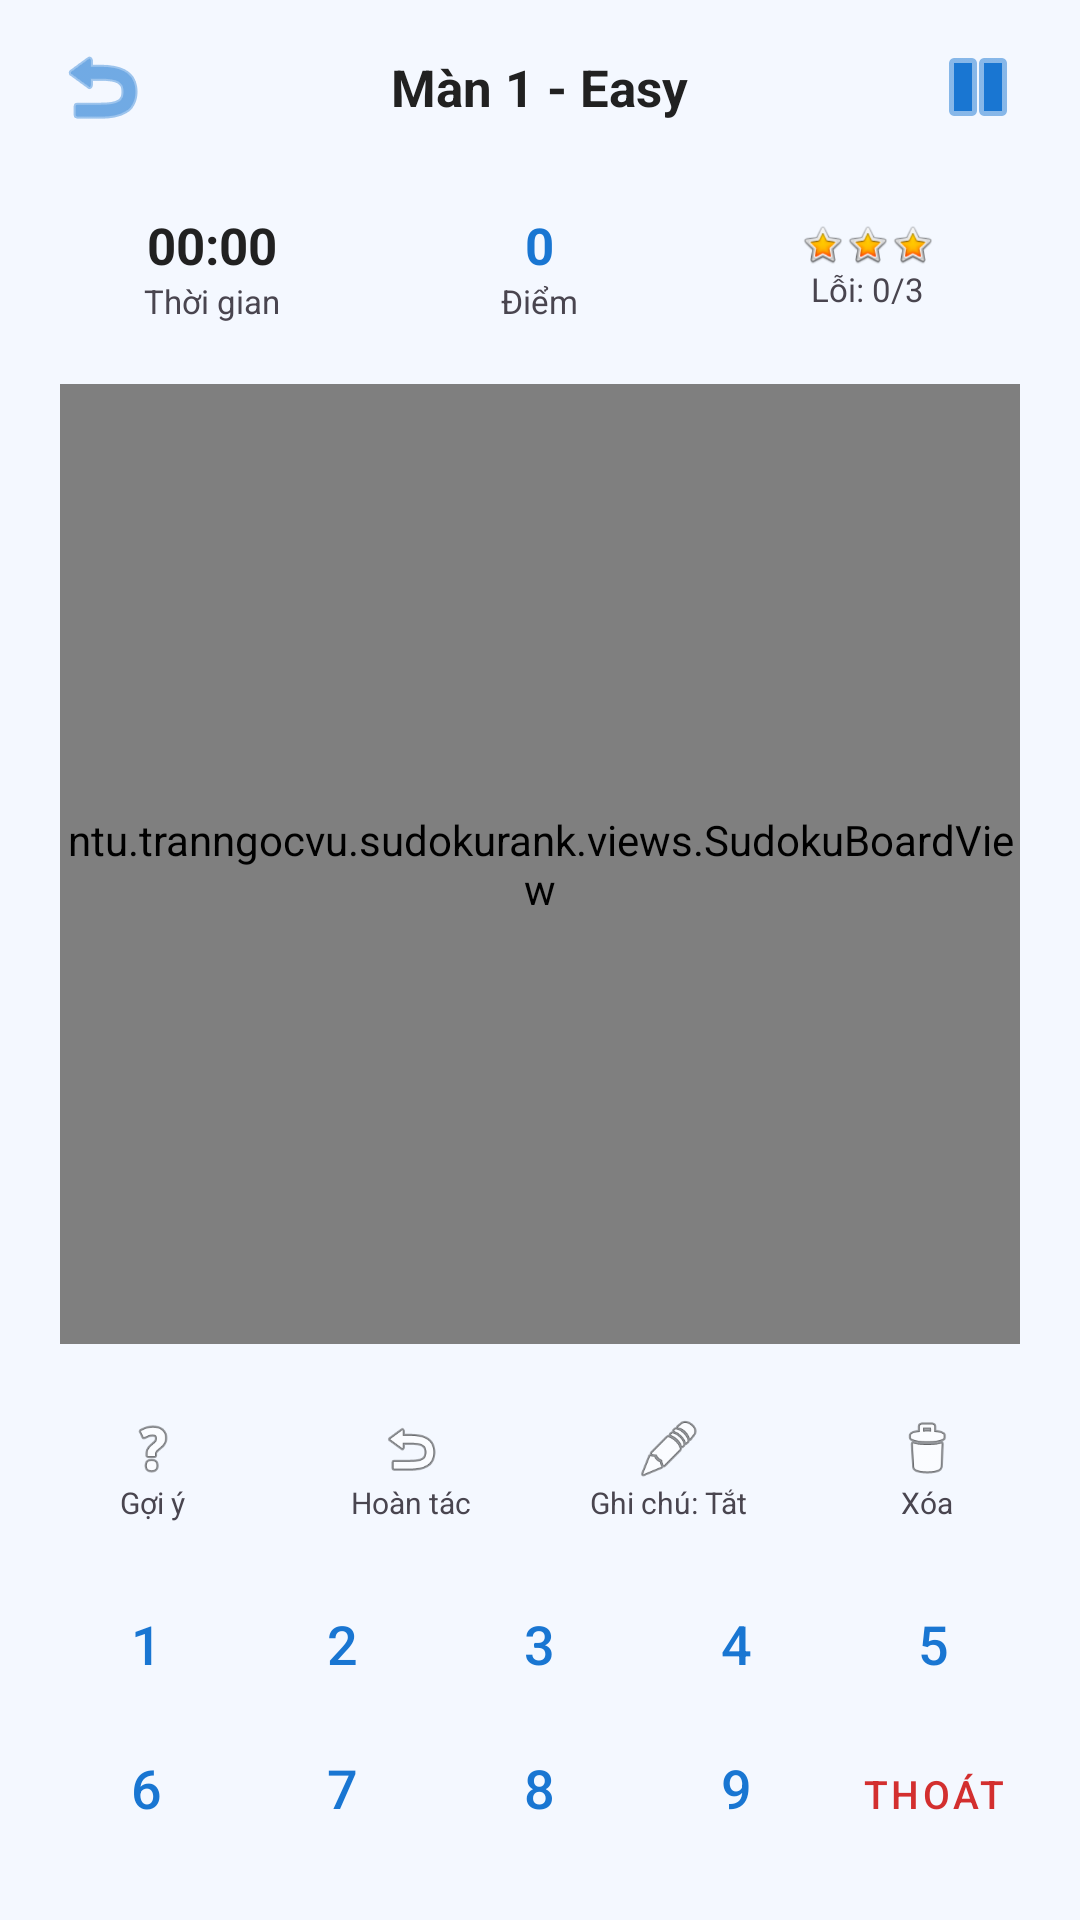

Where icons sit on this 1080x1920 app screen, as box(x1, y1, x2, y2):
edit: box(641, 1421, 697, 1477)
pause: box(949, 58, 1007, 116)
star on: box(804, 227, 842, 263), box(849, 227, 887, 263), box(894, 227, 932, 263)
